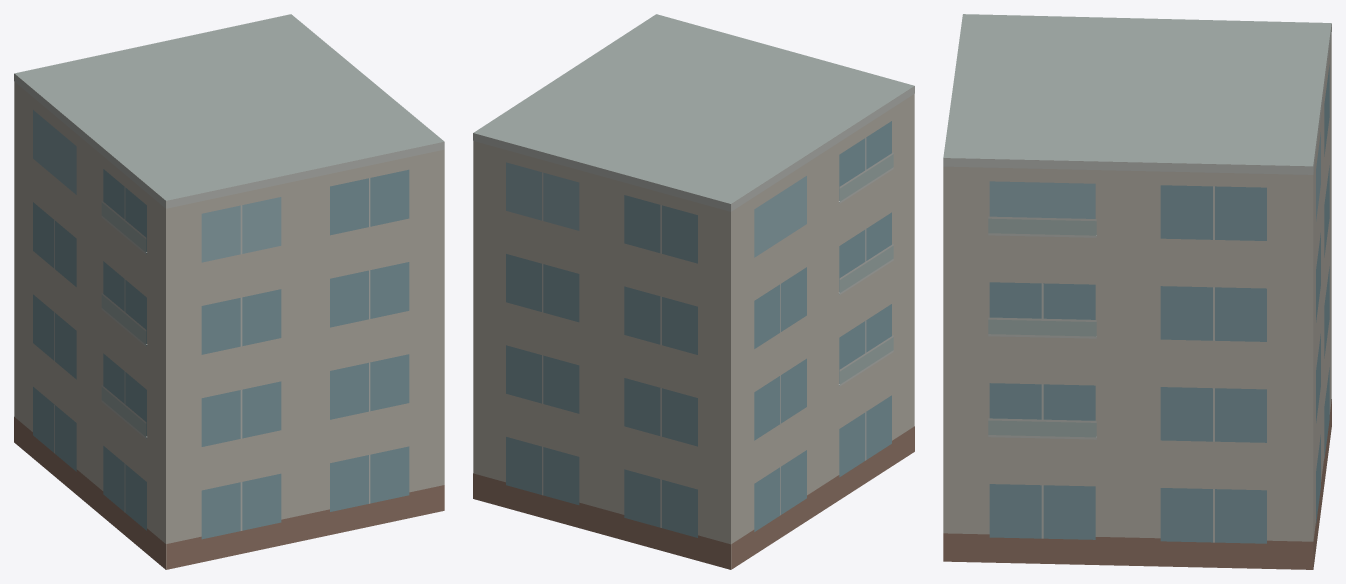
File: survey-upis-32763944.glb
3 views of the same model, side by side, from view 1: azimuth 30°, elevation 25°; view 2: azimuth 150°, elevation 25°; view 3: azimuth 270°, elevation 25° (orthographic). The views are drawn at different scales.
Visible parts, largest first — view 1: survey-upis-32763944.tmp; view 2: survey-upis-32763944.tmp; view 3: survey-upis-32763944.tmp.
Boxes of the visible parts, x1=… form: survey-upis-32763944.tmp: x1=14, y1=14, x2=444, y2=569; survey-upis-32763944.tmp: x1=473, y1=14, x2=914, y2=569; survey-upis-32763944.tmp: x1=943, y1=14, x2=1331, y2=569.
Size of the model in its own units: 9.24 by 11.4 by 9.96.
